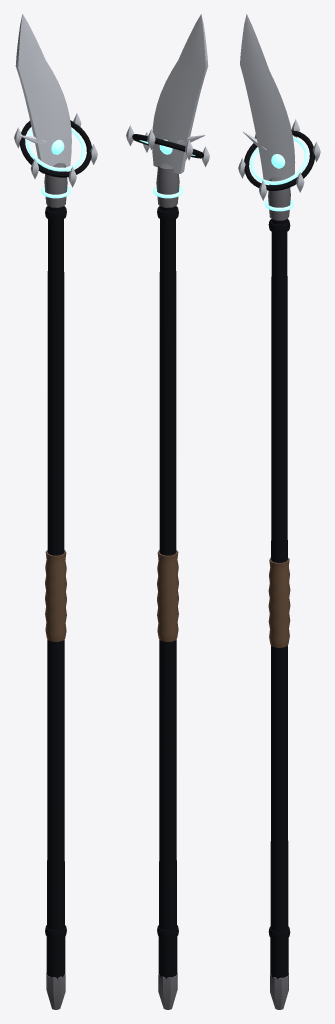
File: esc_w_ranger_spear_2.glb
3 views of the same model, side by side, from view 1: azimuth 30°, elevation 25°; view 2: azimuth 150°, elevation 25°; view 3: azimuth 330°, elevation 25° (orthographic).
Parts seen in each view (by area): view 1: esc_w_ranger_spear_2; view 2: esc_w_ranger_spear_2; view 3: esc_w_ranger_spear_2.
Part boxes in pixels (x1,y1,x2,y2): esc_w_ranger_spear_2: [14, 14, 97, 1009]; esc_w_ranger_spear_2: [126, 14, 209, 1009]; esc_w_ranger_spear_2: [238, 14, 320, 1009].
Bounding box in the file's own units: 0.1742 × 2.33 × 0.1578.
